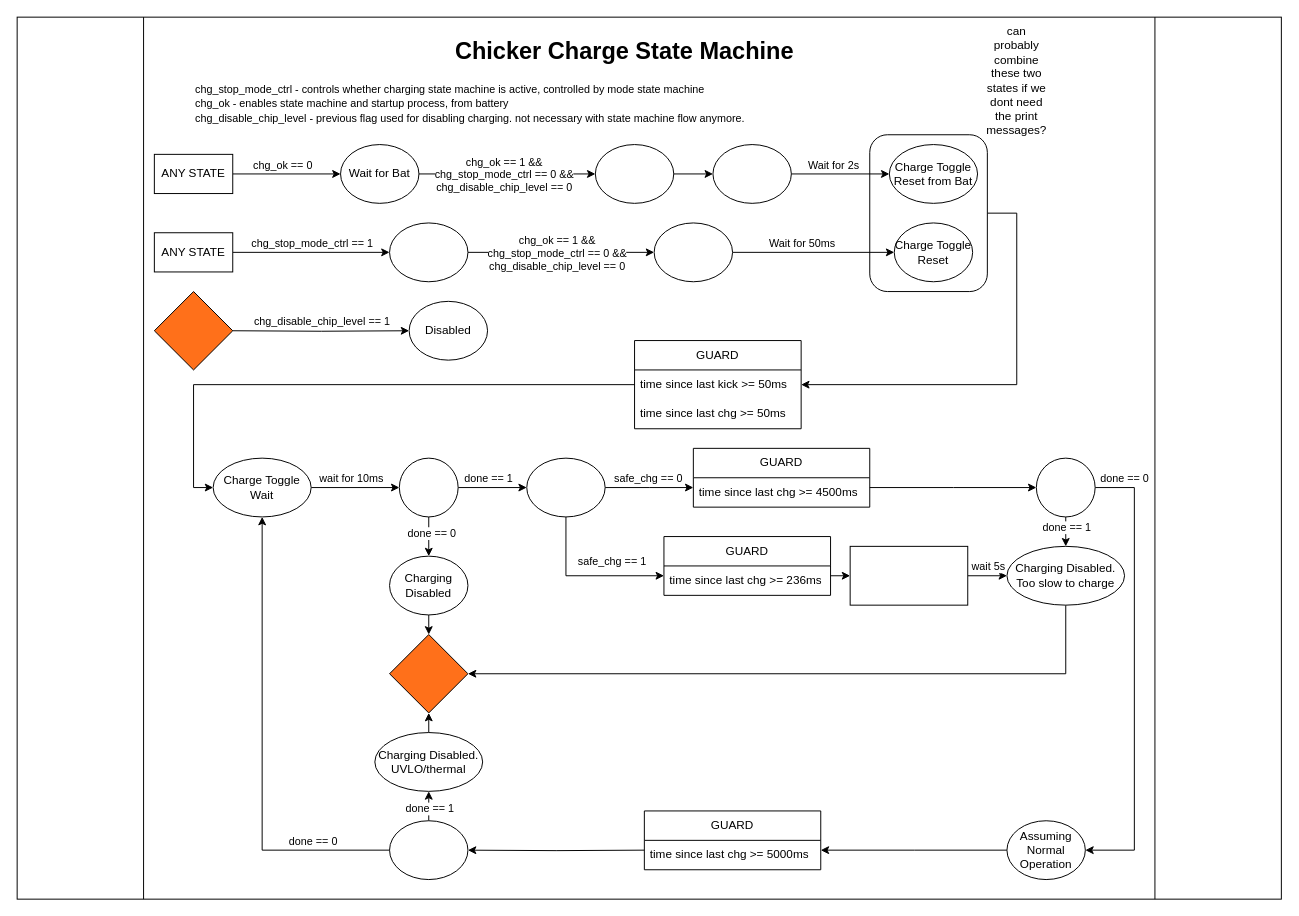
The diagram is 1299 pixels wide and 916 high, and some of its shapes have lost their labels. Here are the shapes that lost their labels. From the top down, the centre of each, then its label:
the point at 634,173: Startup (reset vars)
the point at 751,173: New Charge from Bat
the point at 428,252: Inhibited
the point at 693,252: New Charge
the point at 565,487: Charge Started
the point at 908,575: Charged to ~50V
the point at 428,850: Charge Toggle
